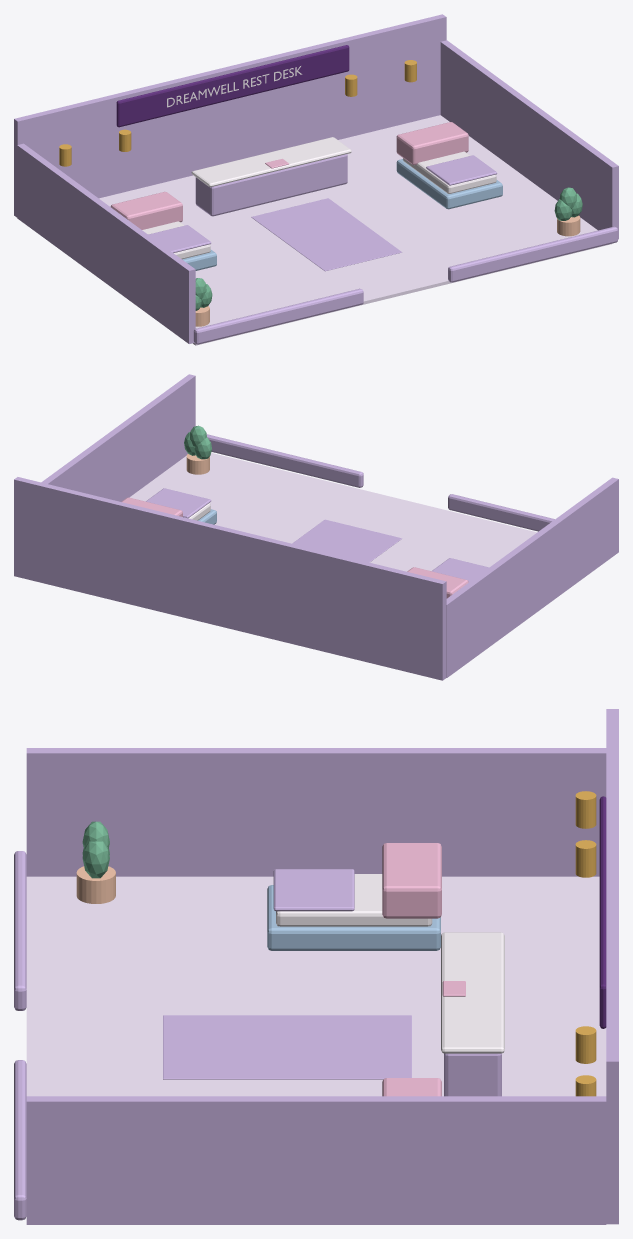
3 views of the same model, one above another, from view 1: azimuth 30°, elevation 25°; view 2: azimuth 150°, elevation 25°; view 3: azimuth 270°, elevation 25° (orthographic). The views are drawn at different scales.
Parts seen in each view (by area): view 1: floor, Back wall, Side wall, Side wall.001, Wall sign, Quiet runner, blocker.desk, Desk top, Front sill, Front sill.001, Pod canopy.001, Pod canopy (+6 smaller); view 2: Back wall, floor, Side wall, Side wall.001, Front sill.001, Quiet runner, Front sill, Pod blanket.001, Pod blanket, Pod canopy; view 3: floor, Side wall.001, Side wall, Quiet runner, Desk top, Back wall, blocker.pod, Pod canopy, Pod blanket, Pod mattress, blocker.desk, Front sill.001 (+8 smaller).
Boxes of the visible parts, x1,y1,x2,y2 form: floor: (99,115,611,345); Back wall: (14,14,446,217); Side wall: (17,143,195,343); Side wall.001: (440,40,618,239); Wall sign: (116,45,349,127); Quiet runner: (251,198,401,271); blocker.desk: (195,154,347,216); Desk top: (191,137,351,187); Front sill: (193,288,363,344); Front sill.001: (448,226,617,282); Pod canopy.001: (396,122,468,164); Pod canopy: (110,191,182,229); Back wall: (14,477,446,680); floor: (129,453,536,571); Side wall: (446,477,618,677); Side wall.001: (41,374,195,501); Front sill.001: (206,434,363,487); Quiet runner: (292,519,401,562); Front sill: (448,494,554,531); Pod blanket.001: (146,488,211,518); Pod blanket: (432,558,488,582); Pod canopy: (407,567,468,598); floor: (26,876,606,1096); Side wall.001: (26,1096,606,1224); Side wall: (26,748,606,876); Quiet runner: (163,1015,411,1079); Desk top: (441,932,504,1053); Back wall: (606,709,618,1224); blocker.pod: (267,885,440,950); Pod canopy: (382,843,441,918); Pod blanket: (273,869,354,911); Pod mattress: (276,874,432,926); blocker.desk: (444,1053,501,1096); Front sill.001: (14,1060,26,1220).
Size of the model in its own units: 14.44 by 3.2 by 10.44.
